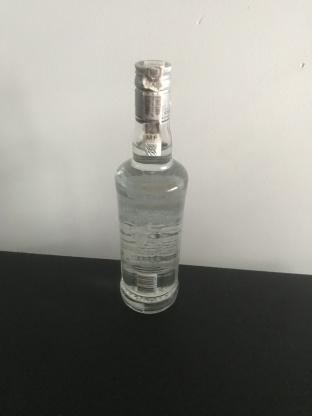nakretka: (133, 58, 174, 125)
